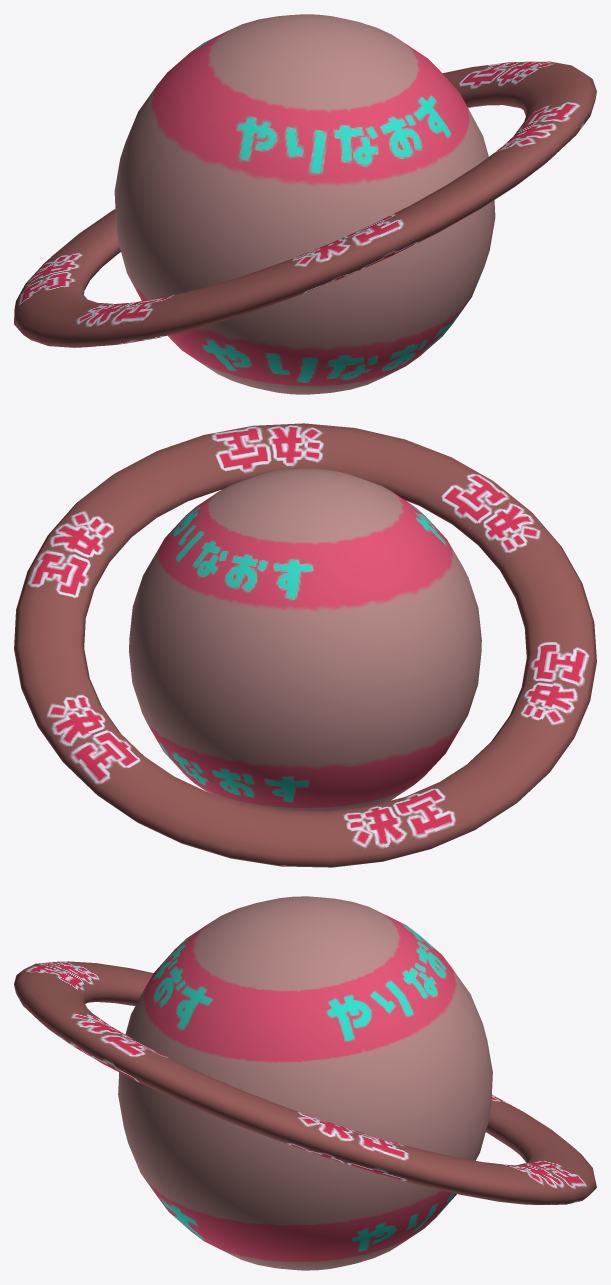
Rendered from planet.obj.
3 renders of one model, top to bottom at view 1: azimuth 30°, elevation 25°; view 2: azimuth 150°, elevation 25°; view 3: azimuth 270°, elevation 25°, orthographic. The views are drawn at different scales.
Visible parts, largest first — view 1: 球; view 2: 球; view 3: 球.
Part boxes in pixels (bbox=[...]): 球: bbox=[14, 14, 596, 394]; 球: bbox=[14, 423, 596, 867]; 球: bbox=[14, 896, 596, 1270].
Bounding box in the file's own units: 3.2 × 2 × 3.11.
Materials: 1 (1 with a texture image).
